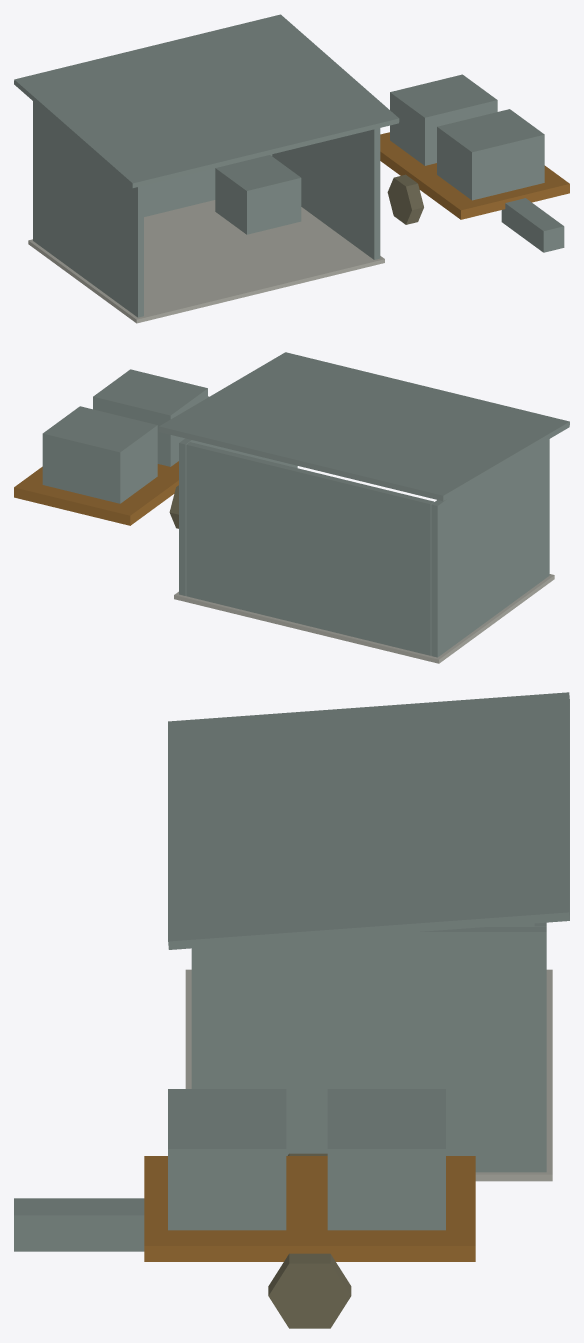
Rendered from SM_CasetaAperos_v3_Remolque_LOD1.fbx.
3 renders of one model, top to bottom at view 1: azimuth 30°, elevation 25°; view 2: azimuth 150°, elevation 25°; view 3: azimuth 270°, elevation 25°, orthographic. The views are drawn at different scales.
Parts seen in each view (by area): view 1: SM_huerta_nules_v23_LOD1; view 2: SM_huerta_nules_v23_LOD1; view 3: SM_huerta_nules_v23_LOD1.
Part boxes in pixels (x1,y1,x2,y2): SM_huerta_nules_v23_LOD1: (14,14,569,323); SM_huerta_nules_v23_LOD1: (14,352,569,663); SM_huerta_nules_v23_LOD1: (14,692,569,1328).
Bounding box in the file's own units: 7.3 × 2.58 × 4.7.
